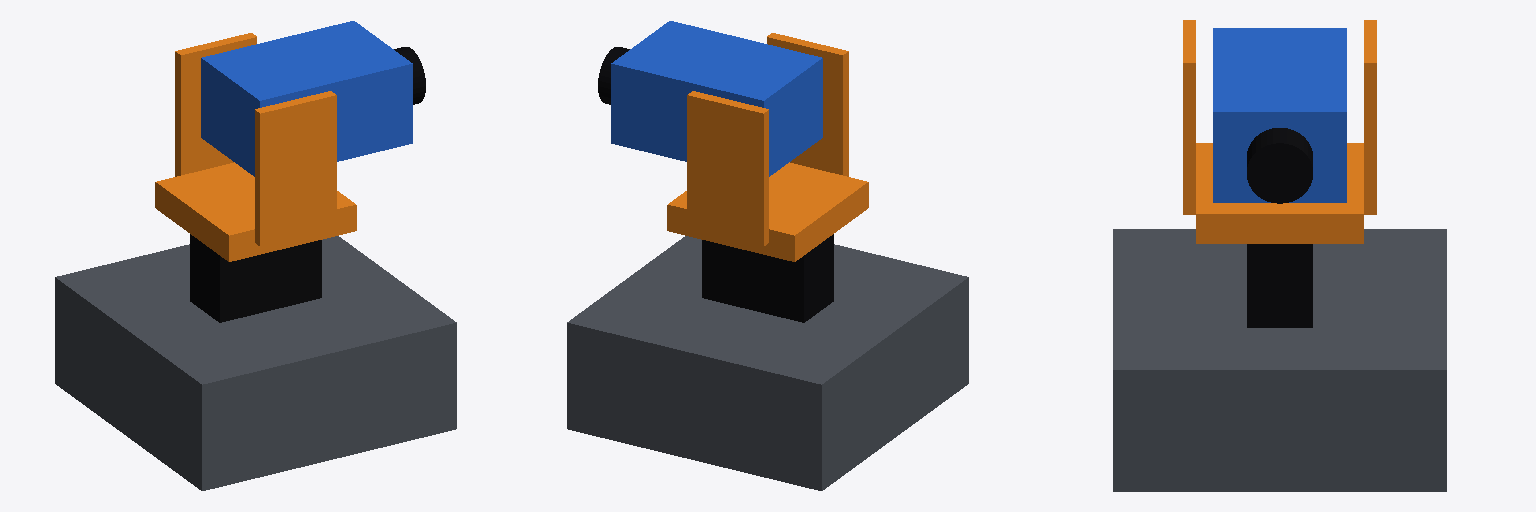
The robot description file, URDF, robot "pan_tilt":
<?xml version="1.0"?>
<!-- A pan-tilt head on two hobby servos (RFC 0020 §4.3), the sample of docs/physics/actuators.md
     "Servos": pan about z, tilt about y carrying a small camera block 3 cm ahead of its axis.
     The servos, their motors and the 2S battery are in pan_tilt.overlay.yaml. Dimensions are
     illustrative, not a real product. -->
<robot name="pan_tilt">
  <link name="world"/>
  <link name="base">
    <inertial>
      <origin xyz="0 0 0.02"/>
      <mass value="0.5"/>
      <inertia ixx="0.0004" iyy="0.0004" izz="0.0006" ixy="0" ixz="0" iyz="0"/>
    </inertial>
    <visual>
      <origin xyz="0 0 0.02"/>
      <geometry><box size="0.1 0.1 0.04"/></geometry>
      <material name="grey"><color rgba="0.35 0.37 0.4 1"/></material>
    </visual>
    <visual>
      <origin xyz="0 0 0.055"/>
      <geometry><box size="0.04 0.02 0.03"/></geometry>
      <material name="black"><color rgba="0.08 0.08 0.09 1"/></material>
    </visual>
    <collision>
      <origin xyz="0 0 0.02"/>
      <geometry><box size="0.1 0.1 0.04"/></geometry>
    </collision>
  </link>
  <joint name="base_fixed" type="fixed">
    <parent link="world"/>
    <child link="base"/>
  </joint>

  <!-- Pan: a bracket turning about z. -->
  <link name="pan_bracket">
    <inertial>
      <origin xyz="0 0 0.03"/>
      <mass value="0.05"/>
      <inertia ixx="2.0e-5" iyy="2.0e-5" izz="1.0e-5" ixy="0" ixz="0" iyz="0"/>
    </inertial>
    <visual>
      <origin xyz="0 0 0.005"/>
      <geometry><box size="0.05 0.05 0.01"/></geometry>
      <material name="orange"><color rgba="0.95 0.55 0.15 1"/></material>
    </visual>
    <visual>
      <origin xyz="0 0.027 0.03"/>
      <geometry><box size="0.03 0.004 0.05"/></geometry>
      <material name="orange"/>
    </visual>
    <visual>
      <origin xyz="0 -0.027 0.03"/>
      <geometry><box size="0.03 0.004 0.05"/></geometry>
      <material name="orange"/>
    </visual>
  </link>
  <joint name="pan" type="revolute">
    <parent link="base"/>
    <child link="pan_bracket"/>
    <origin xyz="0 0 0.07"/>
    <axis xyz="0 0 1"/>
    <limit lower="-1.5708" upper="1.5708" effort="1.0" velocity="10"/>
  </joint>

  <!-- Tilt: the camera block, its centre 3 cm ahead of the axis, so the tilt servo holds it. -->
  <link name="camera_block">
    <inertial>
      <origin xyz="0.03 0 0"/>
      <mass value="0.1"/>
      <inertia ixx="2.0e-5" iyy="3.0e-5" izz="3.0e-5" ixy="0" ixz="0" iyz="0"/>
    </inertial>
    <visual>
      <origin xyz="0.02 0 0"/>
      <geometry><box size="0.06 0.04 0.03"/></geometry>
      <material name="blue"><color rgba="0.2 0.45 0.85 1"/></material>
    </visual>
    <visual>
      <origin xyz="0.055 0 0" rpy="0 1.5708 0"/>
      <geometry><cylinder radius="0.01" length="0.012"/></geometry>
      <material name="black"/>
    </visual>
  </link>
  <joint name="tilt" type="revolute">
    <parent link="pan_bracket"/>
    <child link="camera_block"/>
    <origin xyz="0 0 0.04"/>
    <axis xyz="0 1 0"/>
    <limit lower="-1.0" upper="1.0" effort="1.0" velocity="10"/>
  </joint>
</robot>

--- Render facts (derived) ---
3 views of the same robot in one strip: view 1: azimuth 30°, elevation 25°; view 2: azimuth 150°, elevation 25°; view 3: azimuth 270°, elevation 25° (orthographic).
Model pan_tilt with 4 links and 3 joints (2 revolute, 1 fixed), rooted at world, posed every joint at zero.
Visible links, largest first — view 1: base, pan_bracket, camera_block; view 2: base, pan_bracket, camera_block; view 3: base, camera_block, pan_bracket.
Link boxes in pixels (bbox=[...]): base: bbox=[55, 234, 456, 490]; pan_bracket: bbox=[155, 33, 356, 261]; camera_block: bbox=[201, 21, 425, 176]; base: bbox=[567, 234, 968, 490]; pan_bracket: bbox=[667, 33, 868, 261]; camera_block: bbox=[598, 21, 822, 176]; base: bbox=[1113, 229, 1446, 491]; camera_block: bbox=[1213, 28, 1346, 203]; pan_bracket: bbox=[1183, 20, 1376, 243].
Size in the robot's own frame: 0.111 by 0.1 by 0.125 metres.
Geometry: primitives only (box / cylinder / sphere), no mesh files.
